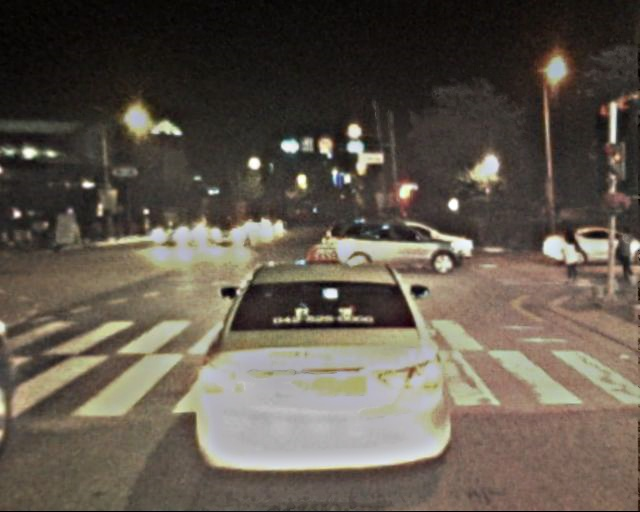person: (560, 228, 586, 287), (617, 228, 639, 286)
